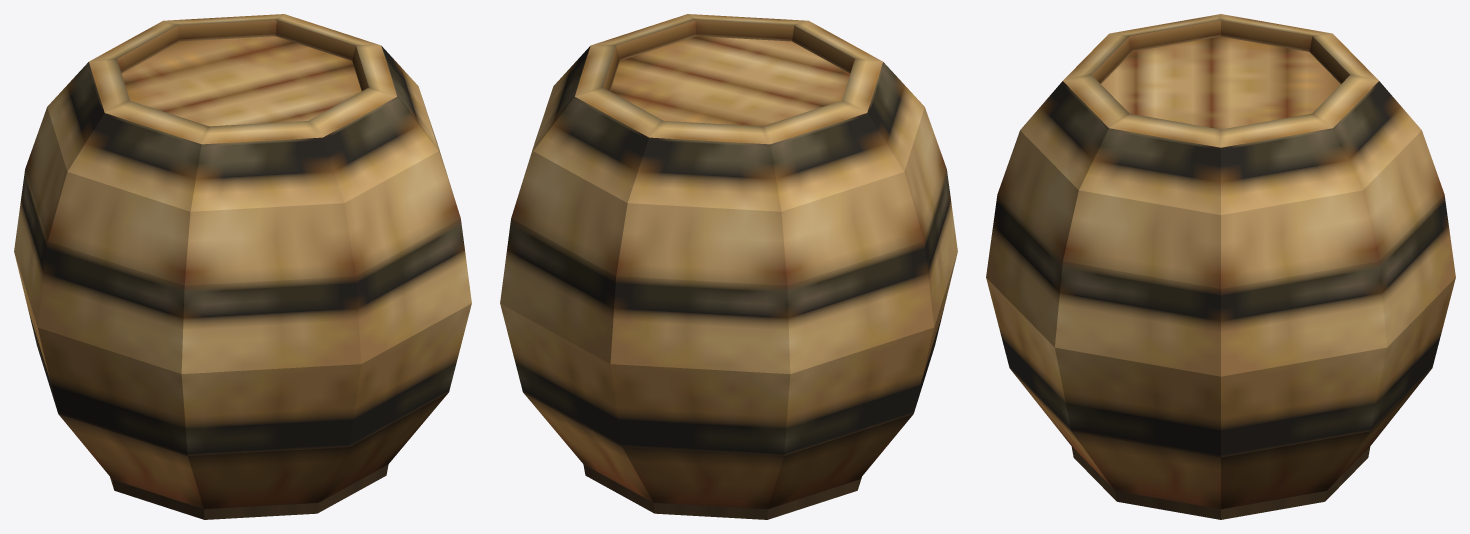
The model's file is Poly_Barrel_01.obj.
3 views of the same model, side by side, from view 1: azimuth 30°, elevation 25°; view 2: azimuth 150°, elevation 25°; view 3: azimuth 270°, elevation 25° (orthographic).
Parts seen in each view (by area): view 1: Torus; view 2: Torus; view 3: Torus.
Part boxes in pixels (x1=…): Torus: x1=14, y1=14, x2=471, y2=519; Torus: x1=500, y1=14, x2=957, y2=519; Torus: x1=986, y1=14, x2=1455, y2=519.
Bounding box in the file's own units: 0.7089 × 0.6372 × 0.7089.
Materials: 1 (1 with a texture image).
